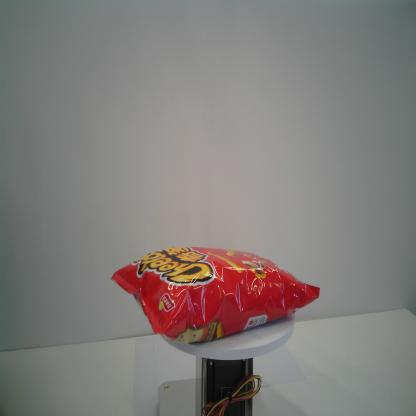Puffed Food: (110, 244, 322, 348)
